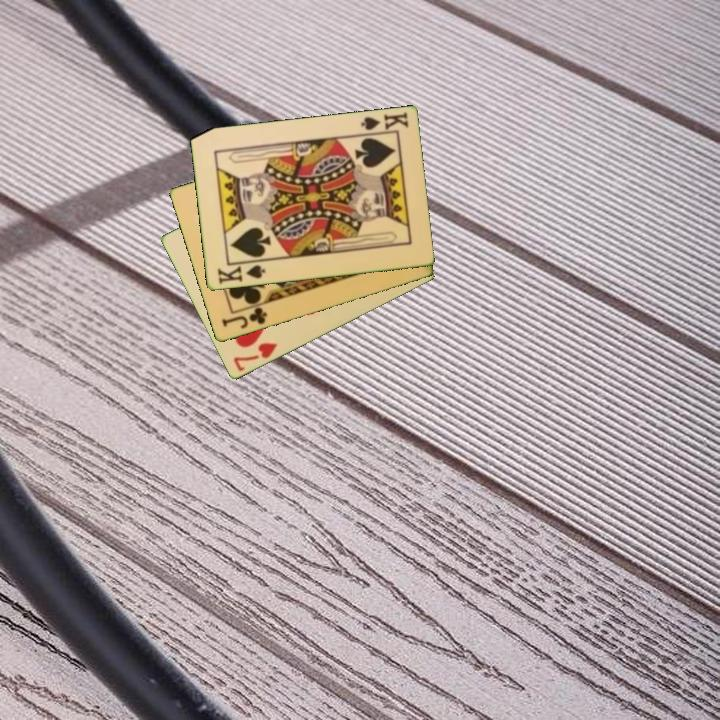7h: (229, 339, 280, 375)
Jc: (218, 304, 270, 332)
Ks: (214, 258, 268, 288), (356, 109, 411, 138)
